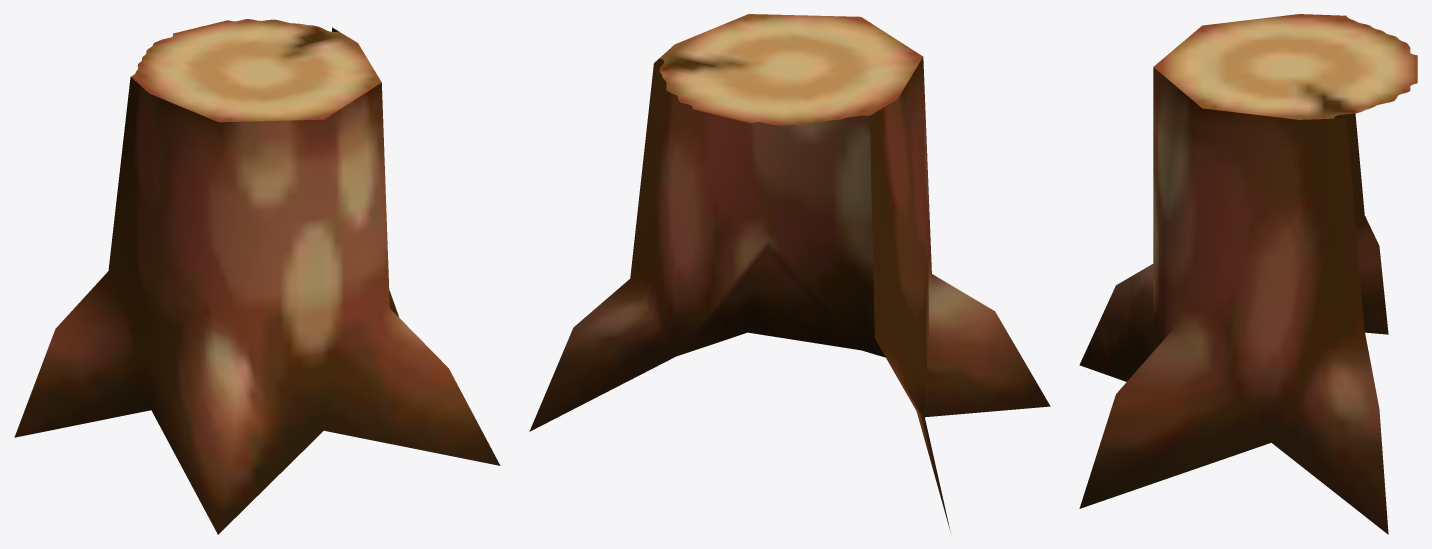
File: fg_treeB_2_b.dae
3 renders of one model, left to right at view 1: azimuth 30°, elevation 25°; view 2: azimuth 150°, elevation 25°; view 3: azimuth 270°, elevation 25°, orthographic. The views are drawn at different scales.
Visible parts, largest first — view 1: vsn_mesh_0_; view 2: vsn_mesh_0_; view 3: vsn_mesh_0_.
Part boxes in pixels (bbox=[...]): vsn_mesh_0_: bbox=[14, 19, 500, 534]; vsn_mesh_0_: bbox=[529, 14, 1050, 530]; vsn_mesh_0_: bbox=[1079, 14, 1417, 534].
Bounding box in the file's own units: 17.01 × 14.66 × 12.14.
